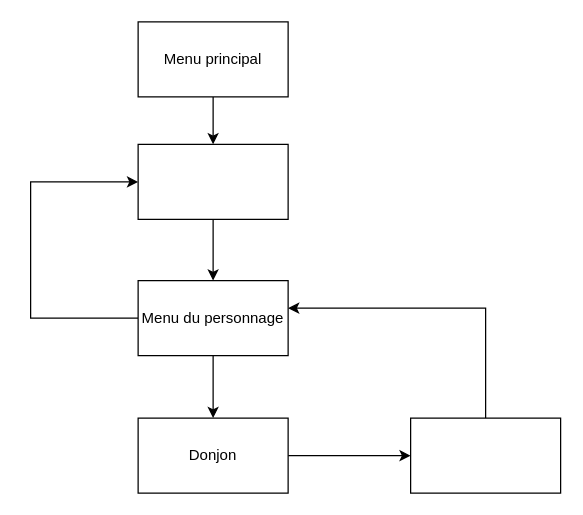
Image size: 583x515. Some labels were removed from this diagram. The shapes that lost their labels are listed below. From the top down, each one's centre as x and y in pixels, then its label:
At point 212,181: "Choix sauvegarde".
At point 485,455: "Menu de fin de donjon".
